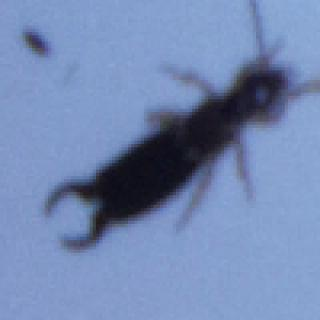earwig: (42, 0, 320, 256)
